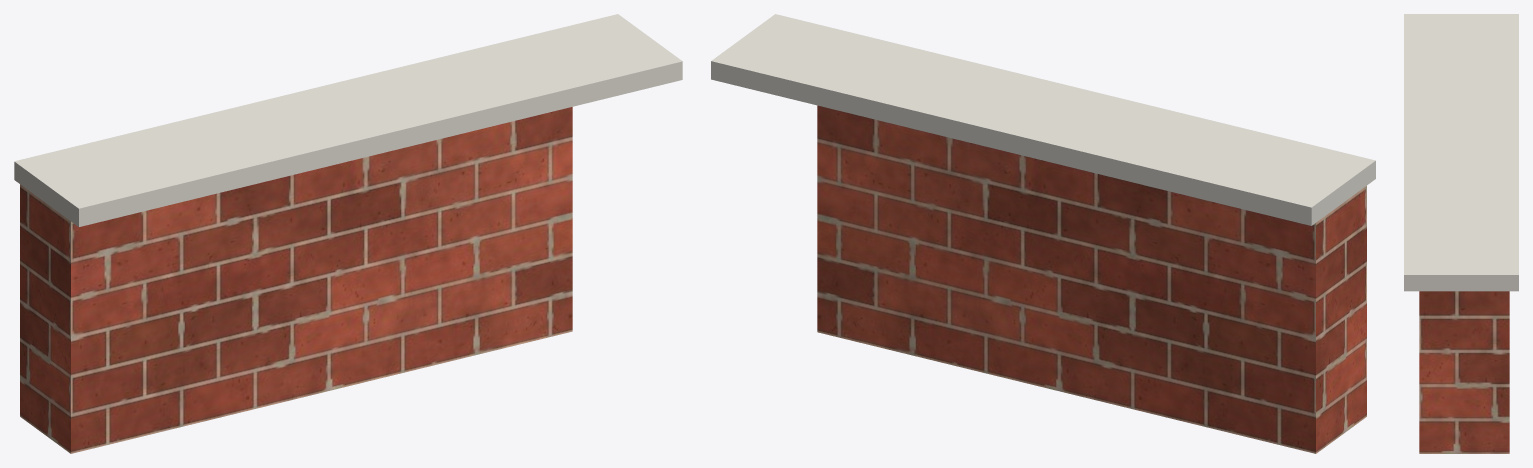
File: parapet_side_a_hi.glb
3 renders of one model, left to right at view 1: azimuth 30°, elevation 25°; view 2: azimuth 150°, elevation 25°; view 3: azimuth 270°, elevation 25°, orthographic. The views are drawn at different scales.
Visible parts, largest first — view 1: parapet_side_a_hi_brick, parapet_side_a_hi_lime; view 2: parapet_side_a_hi_brick, parapet_side_a_hi_lime; view 3: parapet_side_a_hi_lime, parapet_side_a_hi_brick.
Part boxes in pixels (left/top/right/bottom): parapet_side_a_hi_brick: left=20, top=107, right=572, bottom=453; parapet_side_a_hi_lime: left=14, top=14, right=682, bottom=226; parapet_side_a_hi_brick: left=817, top=105, right=1366, bottom=453; parapet_side_a_hi_lime: left=711, top=14, right=1375, bottom=225; parapet_side_a_hi_lime: left=1404, top=14, right=1518, bottom=291; parapet_side_a_hi_brick: left=1419, top=291, right=1509, bottom=453.
Bounding box in the file's own units: 2.05 × 0.815 × 0.38.
Materials: 2 (1 with a texture image).
